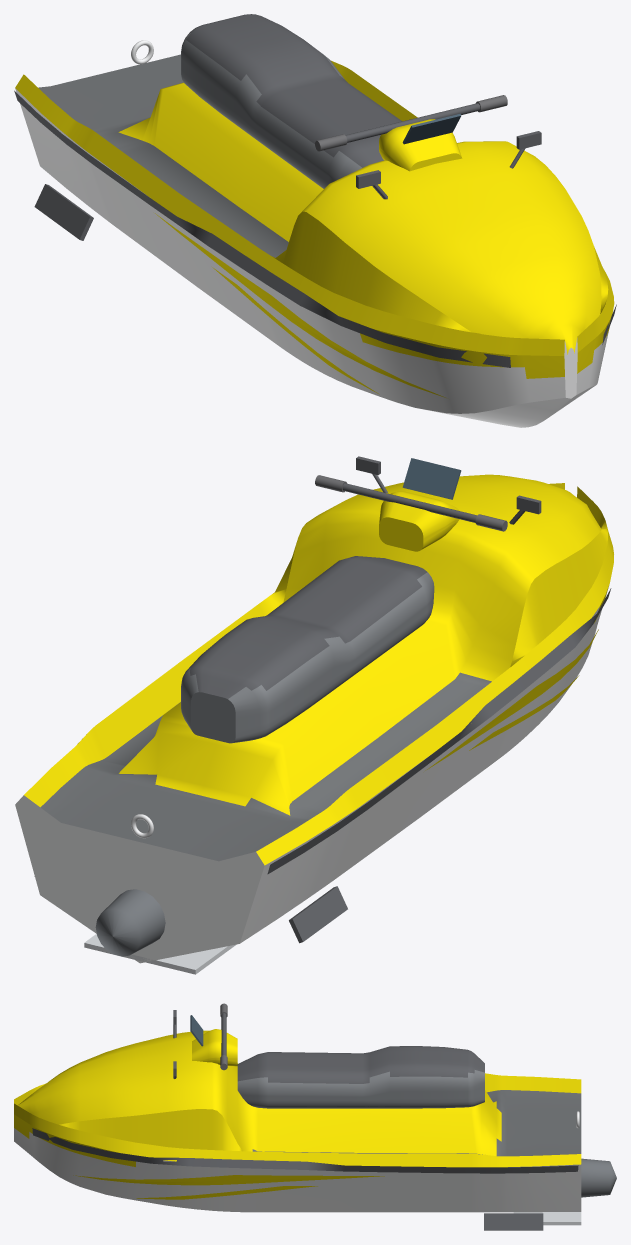
Rendered from boat-jetski.glb.
3 renders of one model, top to bottom at view 1: azimuth 30°, elevation 25°; view 2: azimuth 150°, elevation 25°; view 3: azimuth 270°, elevation 25°, orthographic. The views are drawn at different scales.
Visible parts, largest first — view 1: boat-jetski; view 2: boat-jetski; view 3: boat-jetski.
Boxes of the visible parts, left/top/right/bottom form: boat-jetski: left=14, top=14, right=616, bottom=427; boat-jetski: left=15, top=456, right=613, bottom=974; boat-jetski: left=14, top=1003, right=616, bottom=1230.
Bounding box in the file's own units: 1.28 × 1.22 × 3.56.
